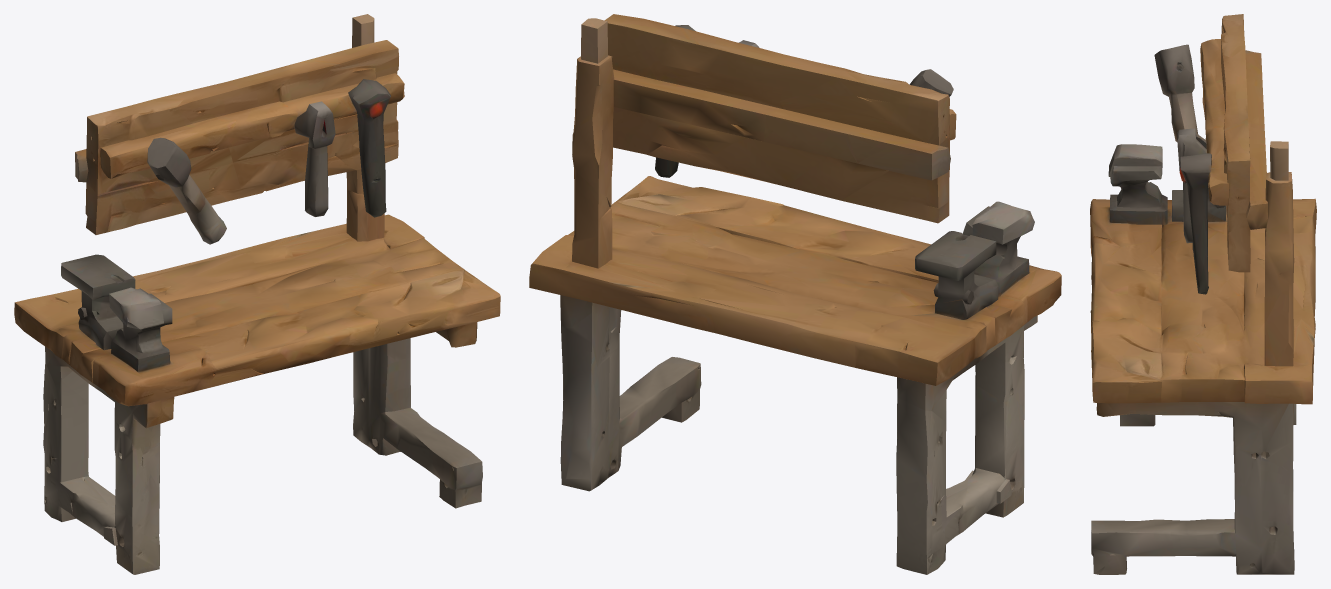
The model's file is workbench_idle.glb.
The picture shows the model from 3 angles, left to right: view 1: azimuth 30°, elevation 25°; view 2: azimuth 150°, elevation 25°; view 3: azimuth 270°, elevation 25°; orthographic projection. The views are drawn at different scales.
Visible parts, largest first — view 1: tripo_node_48fab6e8-302f-4d47-93cf-840377c02473; view 2: tripo_node_48fab6e8-302f-4d47-93cf-840377c02473; view 3: tripo_node_48fab6e8-302f-4d47-93cf-840377c02473.
Boxes of the visible parts, x1=… form: tripo_node_48fab6e8-302f-4d47-93cf-840377c02473: x1=14, y1=14, x2=500, y2=574; tripo_node_48fab6e8-302f-4d47-93cf-840377c02473: x1=529, y1=14, x2=1061, y2=574; tripo_node_48fab6e8-302f-4d47-93cf-840377c02473: x1=1090, y1=14, x2=1316, y2=574.
Size of the model in its own units: 0.8853 by 0.9498 by 0.4652.
1 material, 1 textured.
